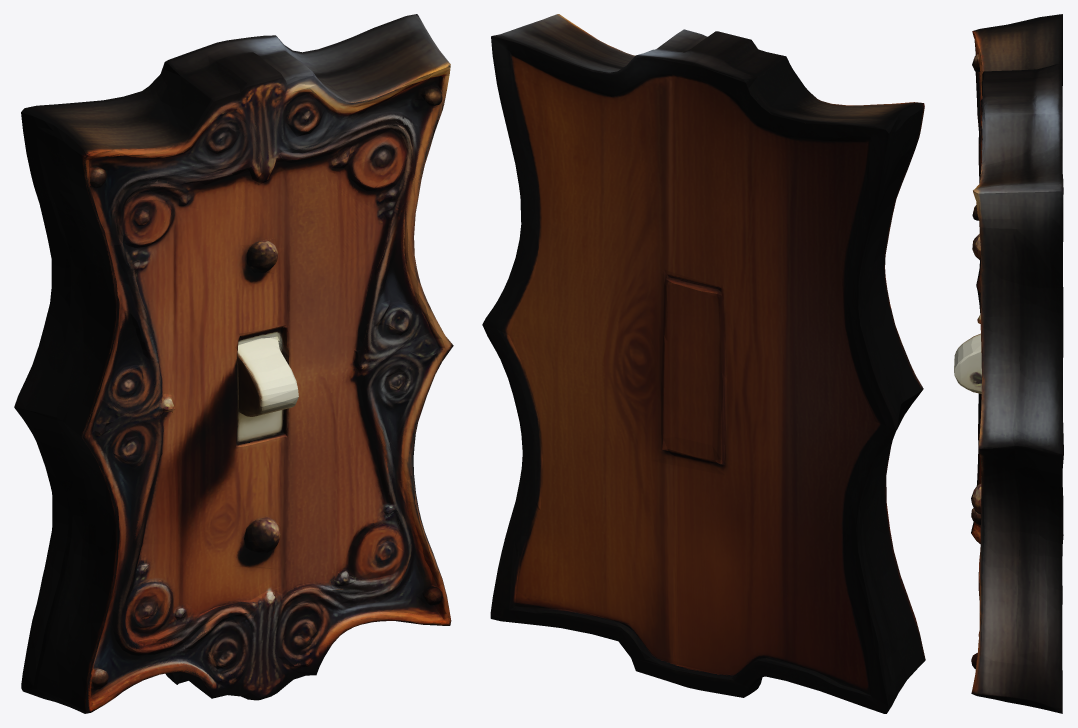
Rendered from wooden-light-switch-cover-vintage.jpeg.glb.
3 views of the same model, side by side, from view 1: azimuth 30°, elevation 25°; view 2: azimuth 150°, elevation 25°; view 3: azimuth 270°, elevation 25° (orthographic). The views are drawn at different scales.
Visible parts, largest first — view 1: world; view 2: world; view 3: world.
Part boxes in pixels (left/top/right/bottom): world: left=14, top=14, right=453, bottom=713; world: left=482, top=14, right=925, bottom=713; world: left=954, top=14, right=1063, bottom=713.
Bounding box in the file's own units: 0.6881 × 0.9941 × 0.176.
Materials: 1 (1 with a texture image).
